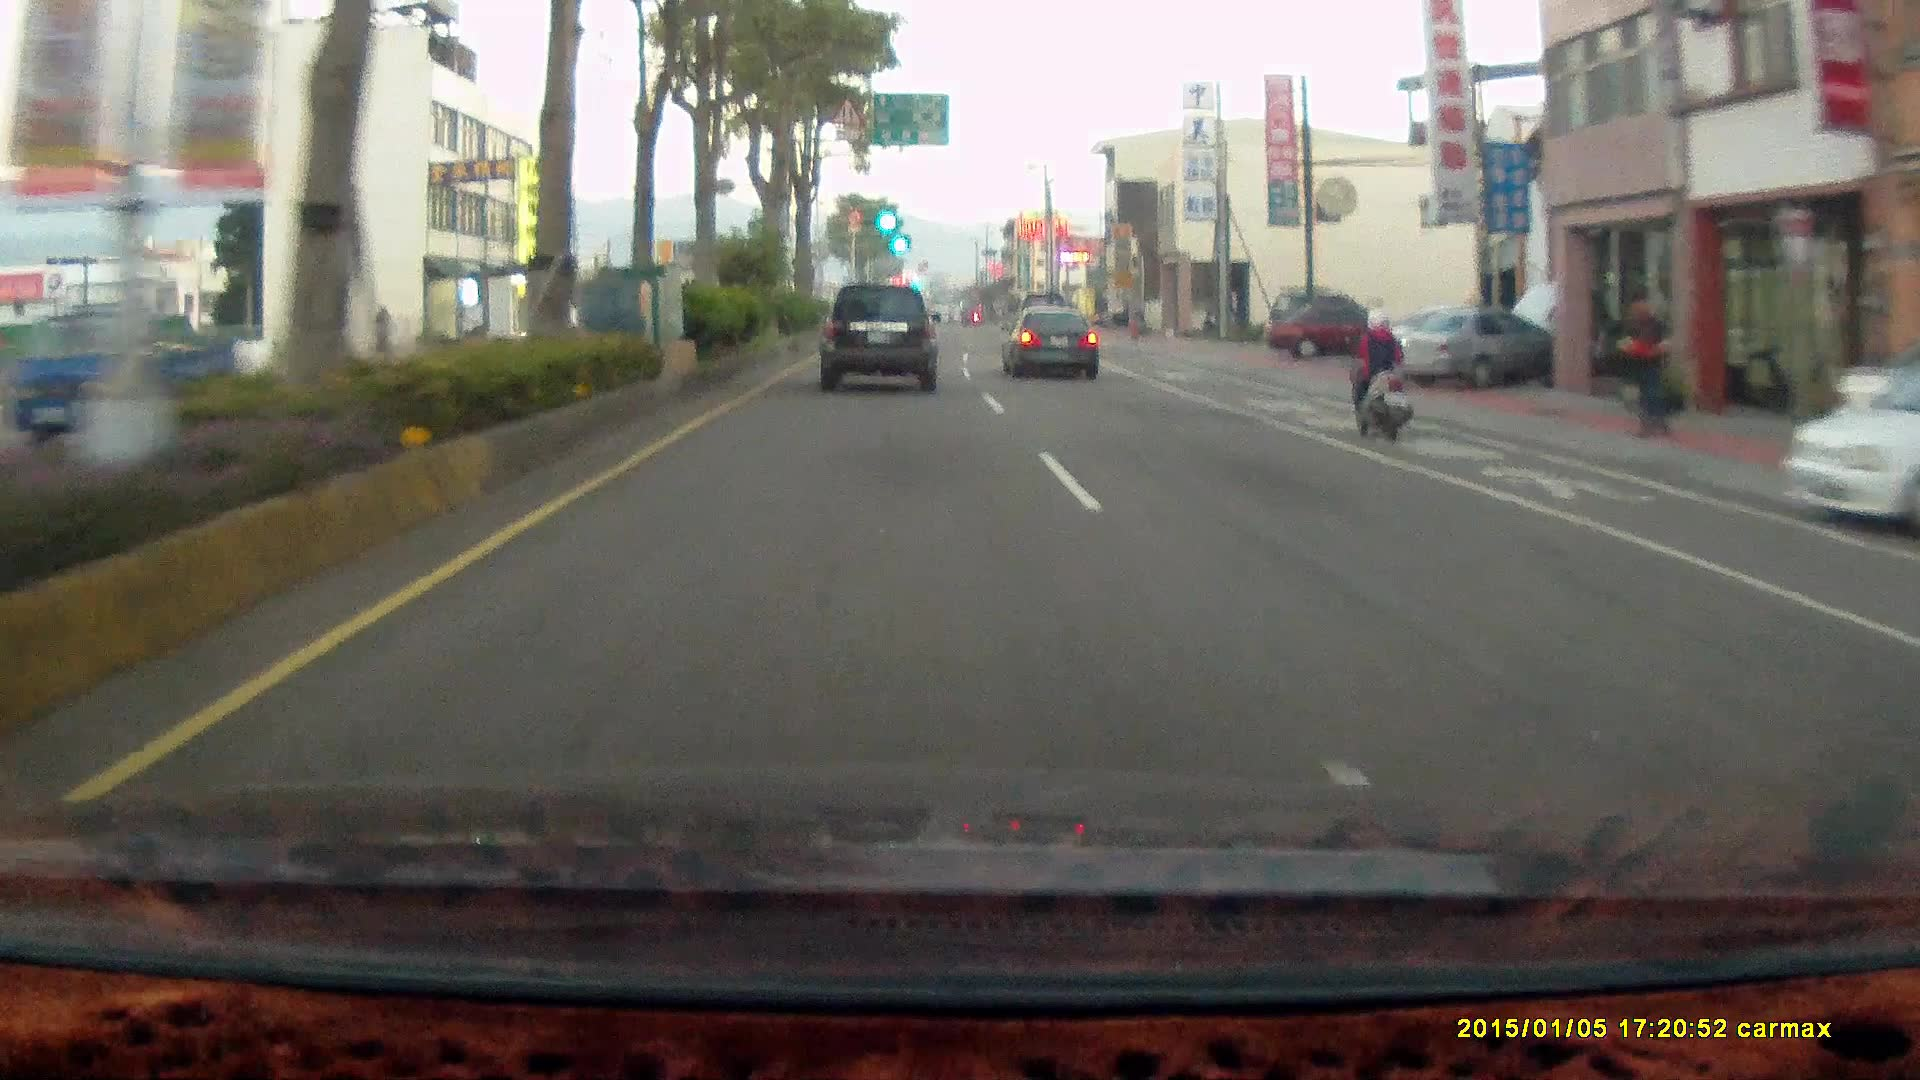pedestrian: (1615, 284, 1686, 444)
rider: (1334, 298, 1425, 451), (1344, 300, 1414, 435)
vehicle: (11, 305, 232, 449), (1781, 327, 1920, 537), (1775, 372, 1919, 535), (1391, 306, 1563, 394), (1387, 307, 1562, 392), (819, 283, 944, 394), (818, 282, 942, 392), (1005, 307, 1106, 382), (1000, 306, 1099, 378), (1268, 298, 1379, 363), (1267, 299, 1379, 361)
